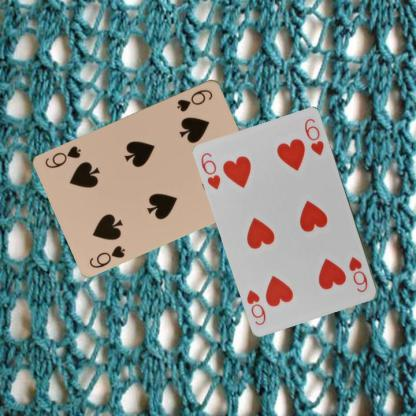6h: (199, 150, 222, 191), (347, 254, 369, 294)
6s: (174, 86, 214, 113), (86, 242, 126, 269)
